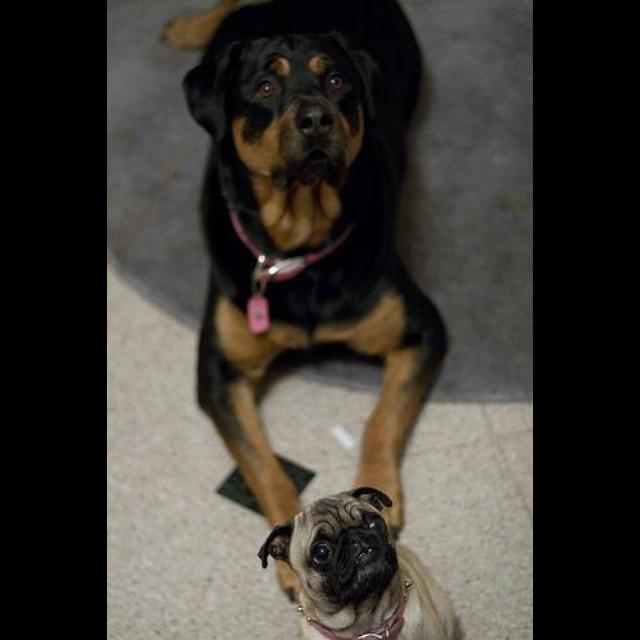other_dog_breed: (258, 487, 465, 640)
rottweiler: (163, 2, 451, 567)
